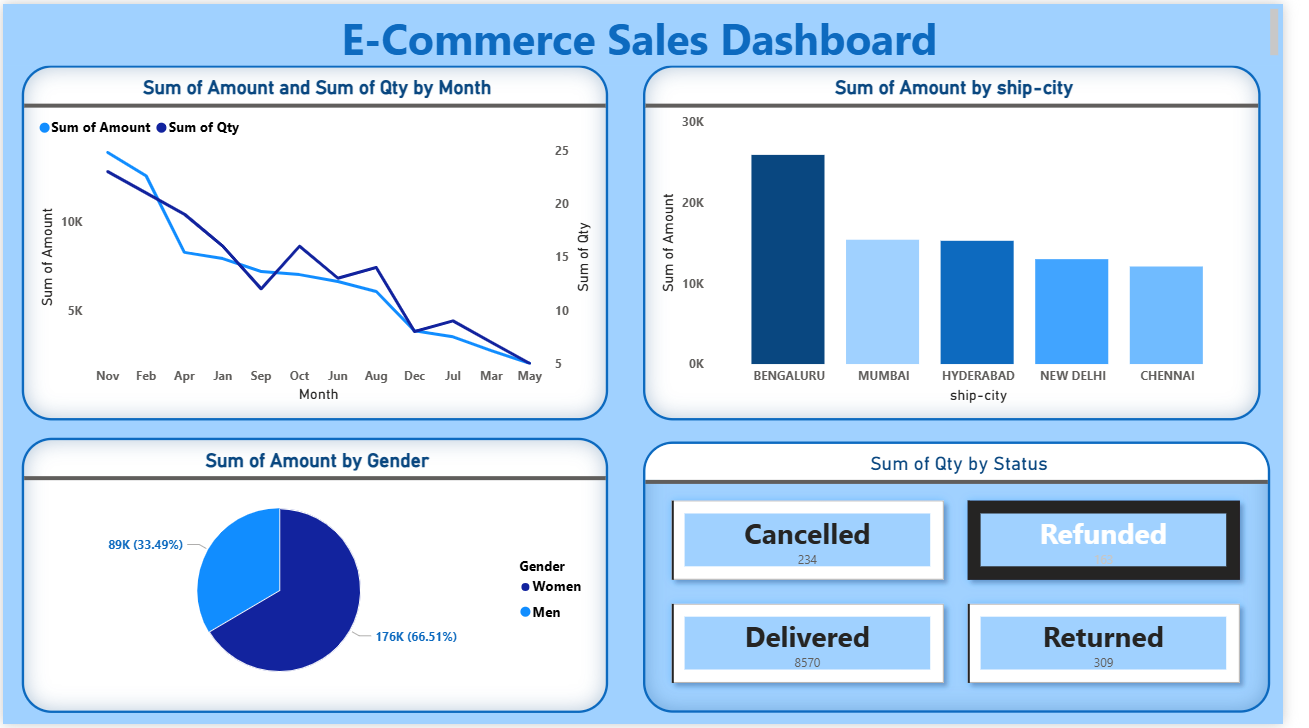

This screenshot's page, from the dashboard's own definition file:
{"tool":"powerbi","page":{"name":"Page 1","canvas":[1280,720],"ordinal":0},"visuals":[{"type":"pieChart","fields":{"Category":["Vrinda Store.Gender"],"Y":["Sum(Vrinda Store.Amount)"]},"box":[18.8,433.8,586.2,275],"z":0},{"type":"clusteredColumnChart","fields":{"Category":["Vrinda Store.ship-city"],"Y":["Sum(Vrinda Store.Amount)"]},"box":[640,61.2,617.5,355],"z":1000},{"type":"lineChart","fields":{"Category":["Vrinda Store.Month"],"Y":["Sum(Vrinda Store.Amount)"],"Y2":["Sum(Vrinda Store.Qty)"]},"box":[18.8,61.2,586.2,355],"z":2000},{"type":"advancedSlicerVisual","fields":{"Values":["Vrinda Store.Status"],"Label":["Sum(Vrinda Store.Qty)"]},"box":[640,437.5,627.5,271.2],"z":3000},{"type":"textbox","box":[0,0,1280,61.2],"z":4000}]}

Visuals, with their boxes in screenshot pixels (x1, y1, x2, y2), scaled from the page's 1280x720 canvas onto the 1309x728 screenshot:
pieChart - Vrinda Store.Gender x Sum(Vrinda Store.Amount): region(19, 439, 619, 717)
clusteredColumnChart - Vrinda Store.ship-city x Sum(Vrinda Store.Amount): region(654, 62, 1286, 421)
lineChart - Vrinda Store.Month x Sum(Vrinda Store.Amount): region(19, 62, 619, 421)
advancedSlicerVisual - Vrinda Store.Status x Sum(Vrinda Store.Qty): region(654, 442, 1296, 717)
textbox: region(0, 0, 1308, 62)
